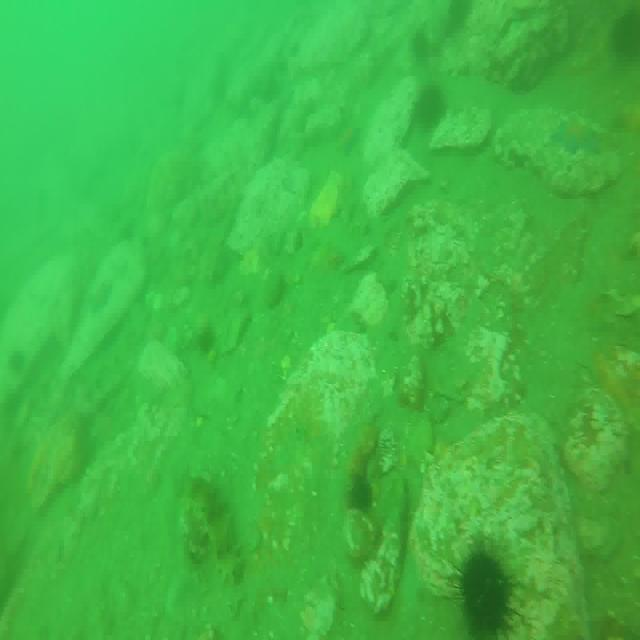echinus: (455, 537, 513, 640), (610, 14, 640, 64), (417, 86, 445, 130), (348, 473, 372, 506), (454, 0, 474, 32), (412, 31, 432, 59)
holothurian: (190, 473, 239, 579)
starfish: (551, 114, 606, 155), (335, 121, 361, 160), (90, 280, 114, 314)
